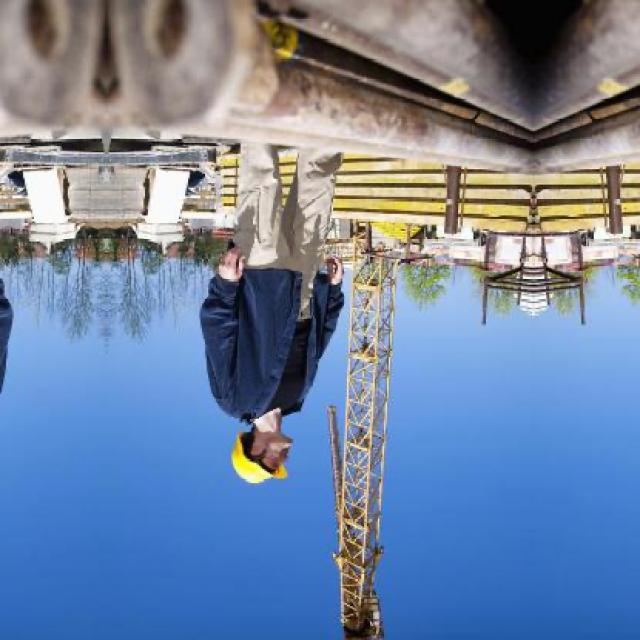con casco: (211, 363, 308, 497)
